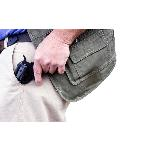Pistol: (8, 51, 48, 107)
